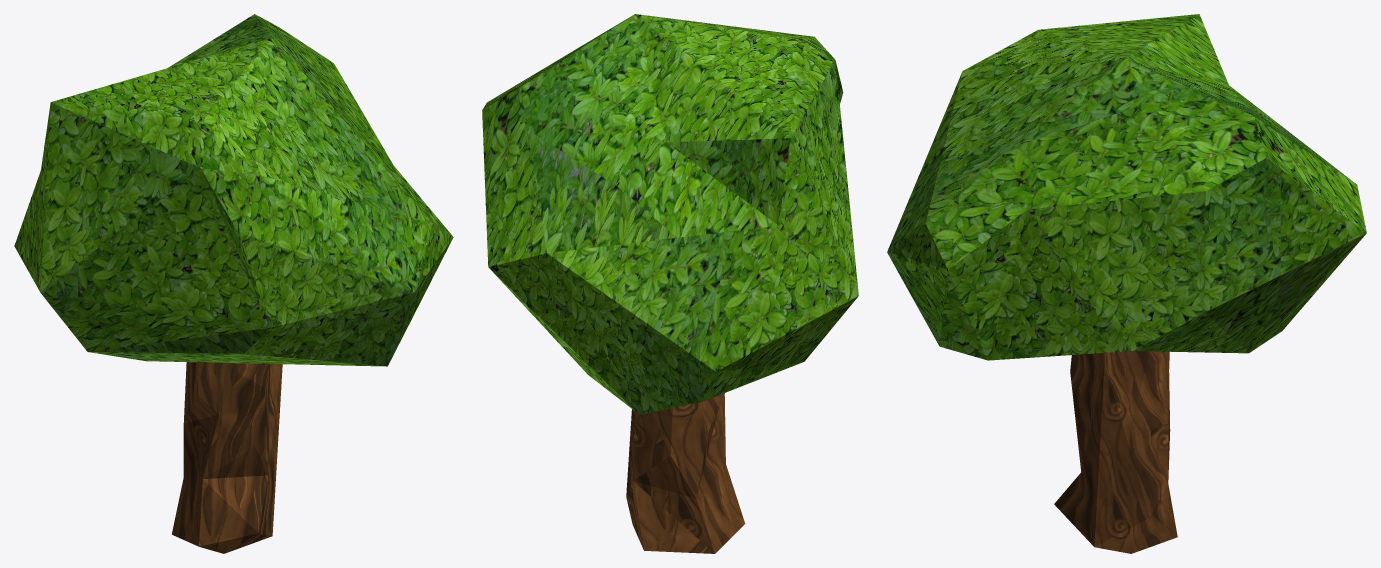
Rendered from Tree.fbx.
3 views of the same model, side by side, from view 1: azimuth 30°, elevation 25°; view 2: azimuth 150°, elevation 25°; view 3: azimuth 270°, elevation 25° (orthographic). The views are drawn at different scales.
Parts seen in each view (by area): view 1: Tree; view 2: Tree; view 3: Tree.
Boxes of the visible parts, x1,y1,x2,y2 form: Tree: [14, 14, 453, 553]; Tree: [482, 14, 858, 553]; Tree: [887, 14, 1366, 553].
Size of the model in its own units: 327 by 467 by 409.
2 materials, 2 textured.
